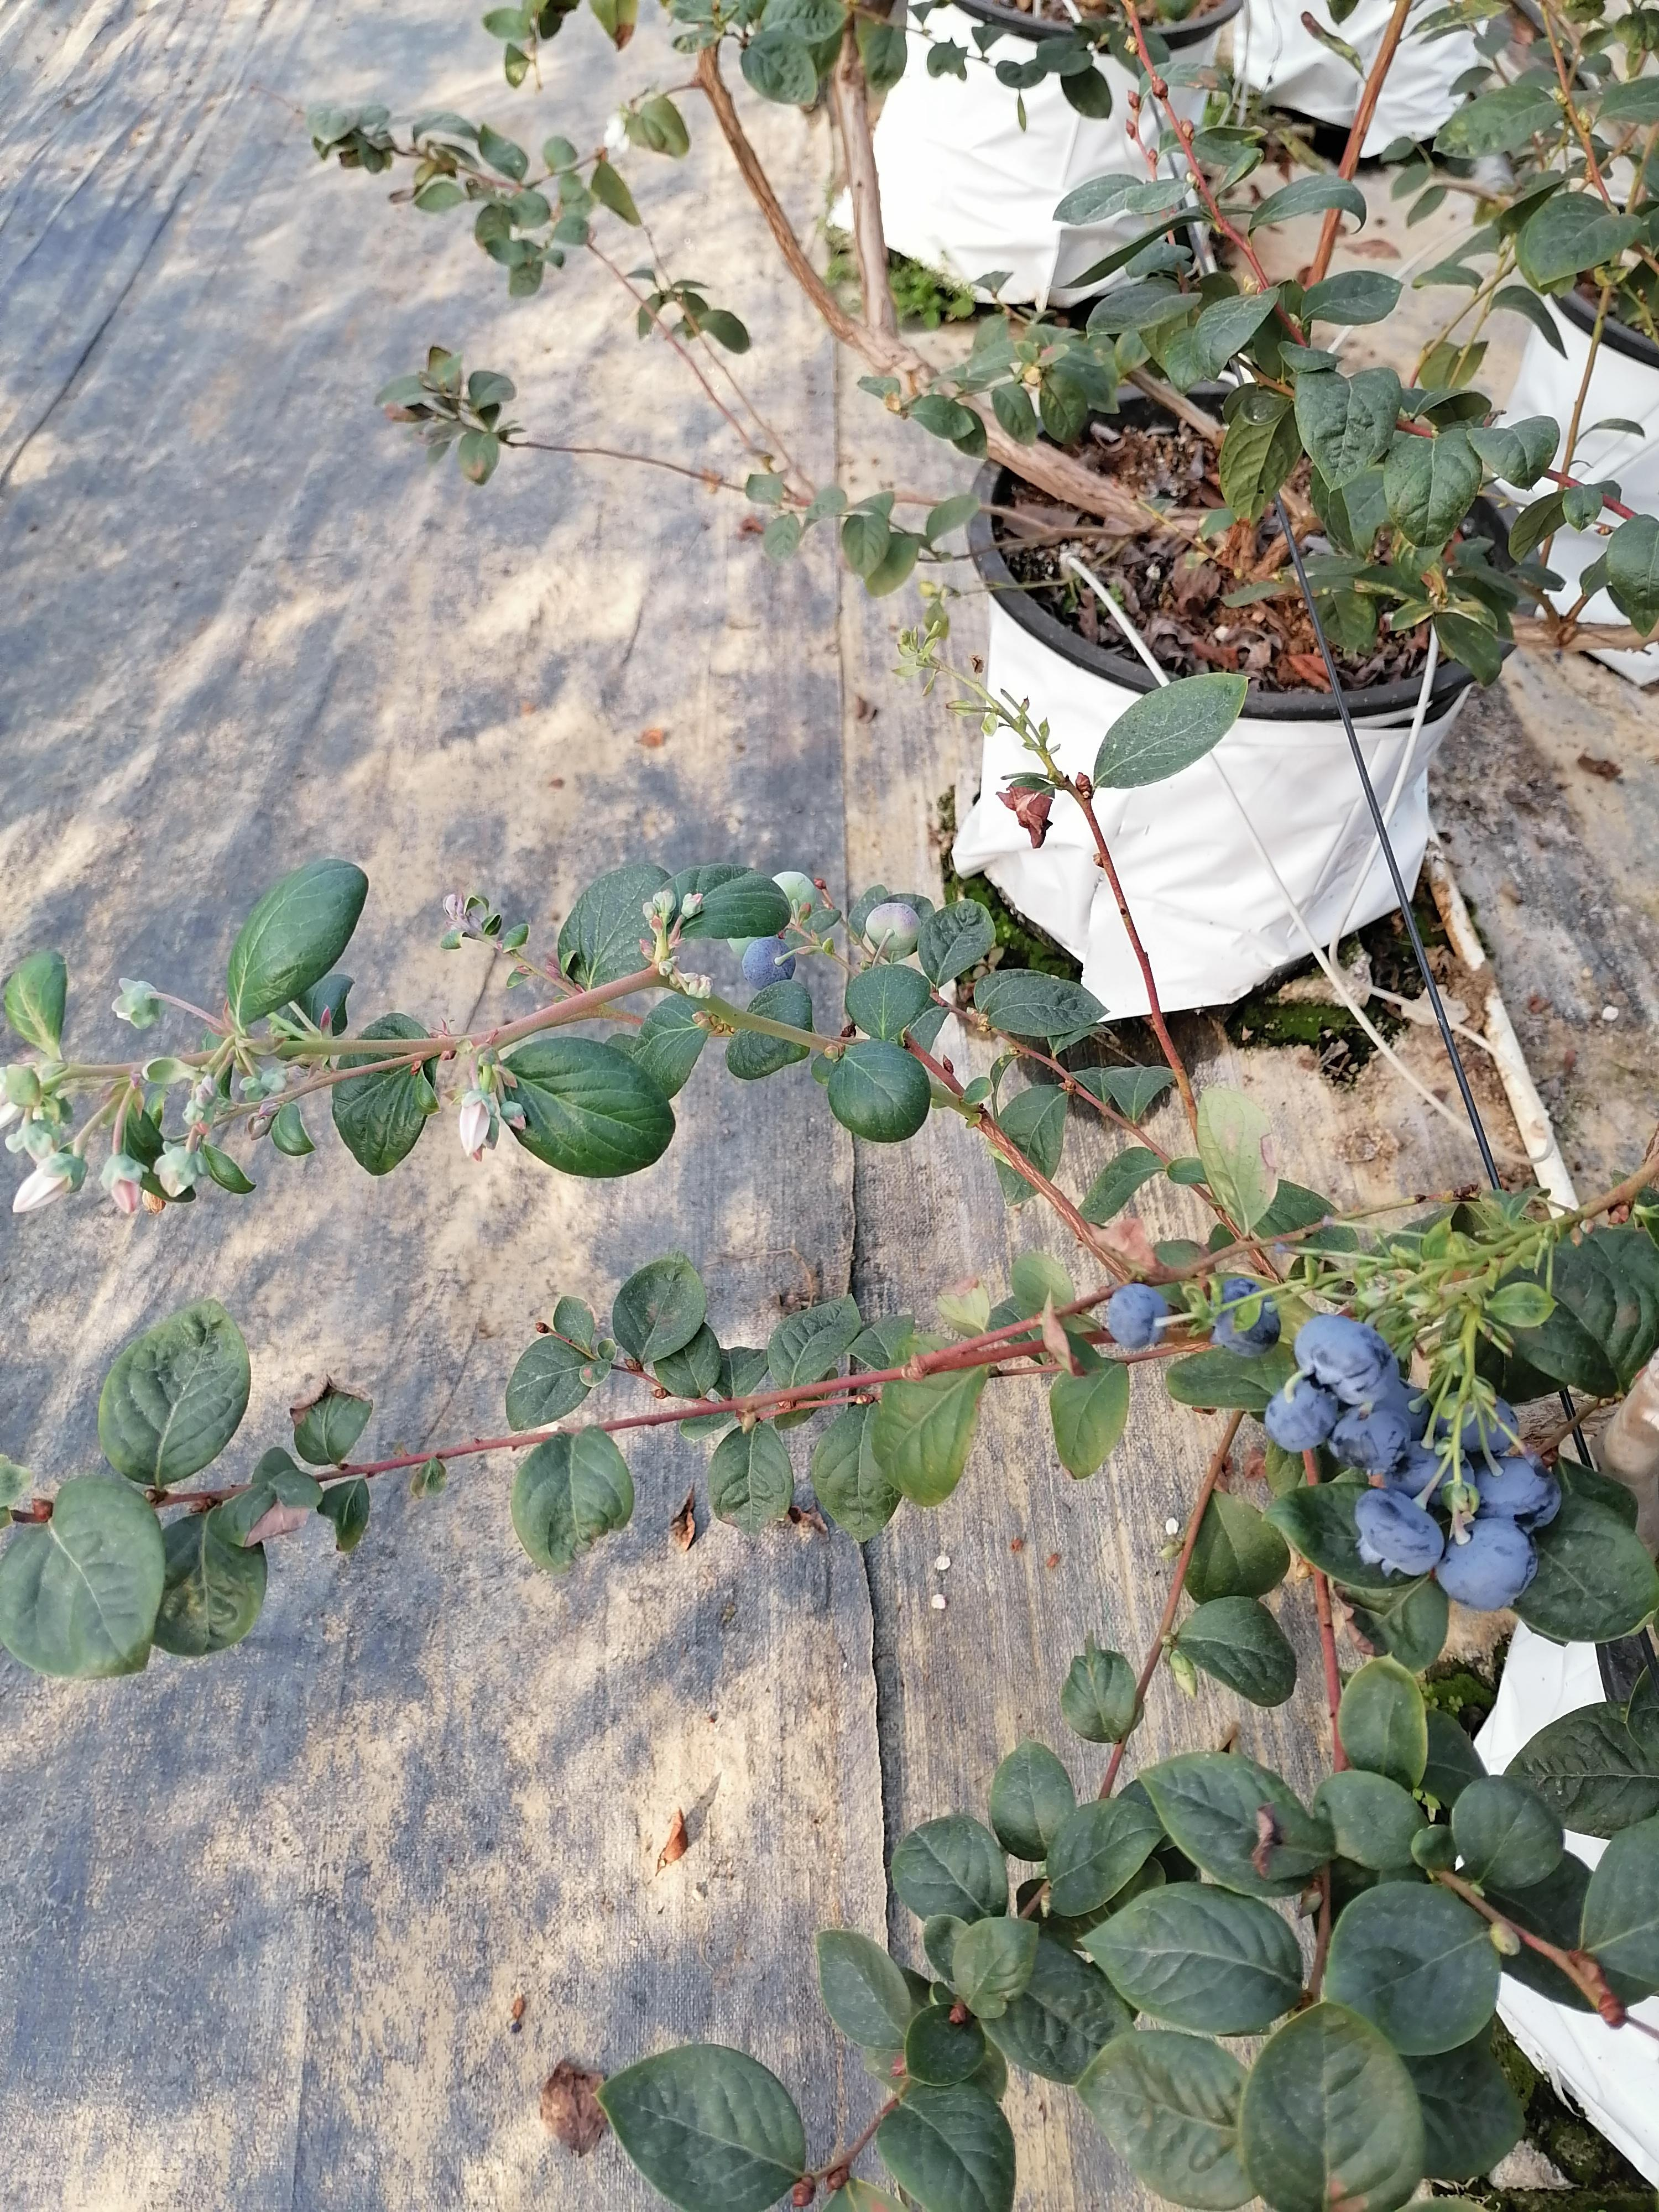ripe-blueberries: (1293, 1313, 1401, 1407), (1438, 1517, 1539, 1611), (1356, 1487, 1445, 1580), (1471, 1454, 1563, 1534), (1438, 1390, 1520, 1465), (1384, 1440, 1474, 1505), (1328, 1406, 1412, 1475), (1208, 1278, 1281, 1357), (1265, 1376, 1338, 1453), (1366, 1378, 1438, 1444), (1108, 1284, 1168, 1348), (741, 937, 796, 989)
